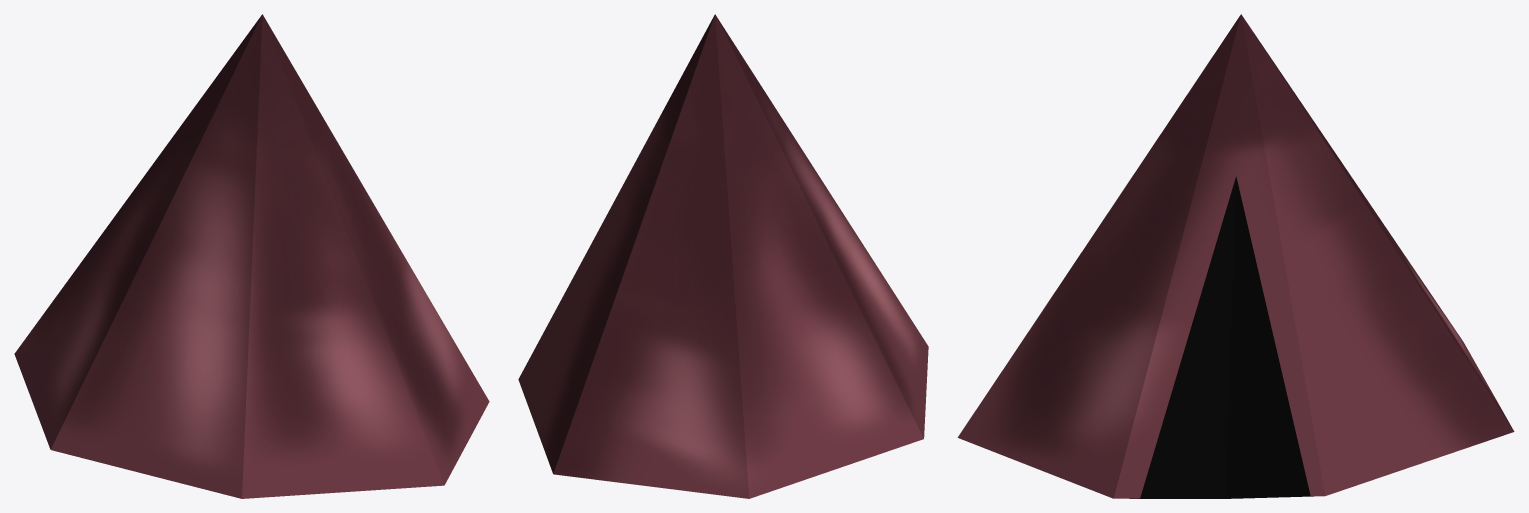
File: tente_2.fbx
The picture shows the model from 3 angles, left to right: view 1: azimuth 30°, elevation 25°; view 2: azimuth 150°, elevation 25°; view 3: azimuth 270°, elevation 25°; orthographic projection. The views are drawn at different scales.
Visible parts, largest first — view 1: pCone1; view 2: pCone1; view 3: pCone1.
Part boxes in pixels (<box>): pCone1: <box>14,14,489,498</box>; pCone1: <box>518,14,928,498</box>; pCone1: <box>957,14,1514,498</box>.
Size of the model in its own units: 5.94 by 5.88 by 7.25.
Materials: 2 (1 with a texture image).
